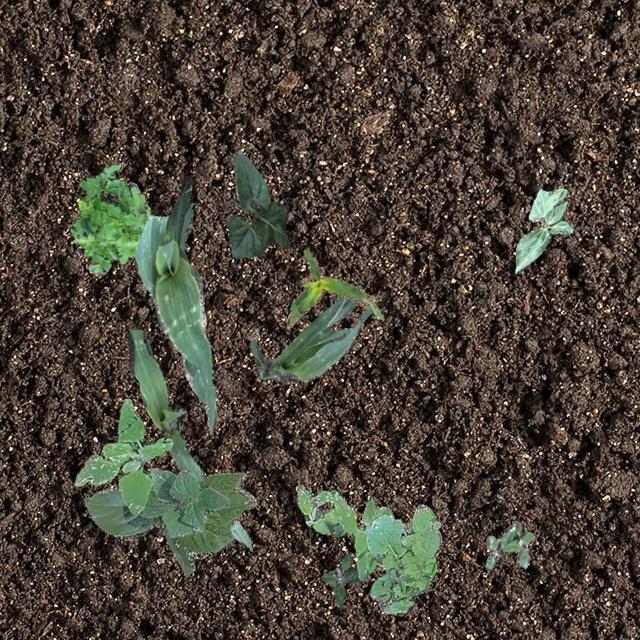crop: (126, 328, 252, 548), (132, 174, 218, 433), (84, 472, 256, 576), (248, 296, 372, 384), (286, 248, 382, 328), (225, 150, 288, 258), (148, 466, 230, 536), (514, 188, 572, 272)
weed: (294, 484, 440, 580), (74, 398, 172, 514), (68, 162, 150, 272), (366, 503, 440, 612), (484, 520, 532, 568), (320, 552, 360, 606)
